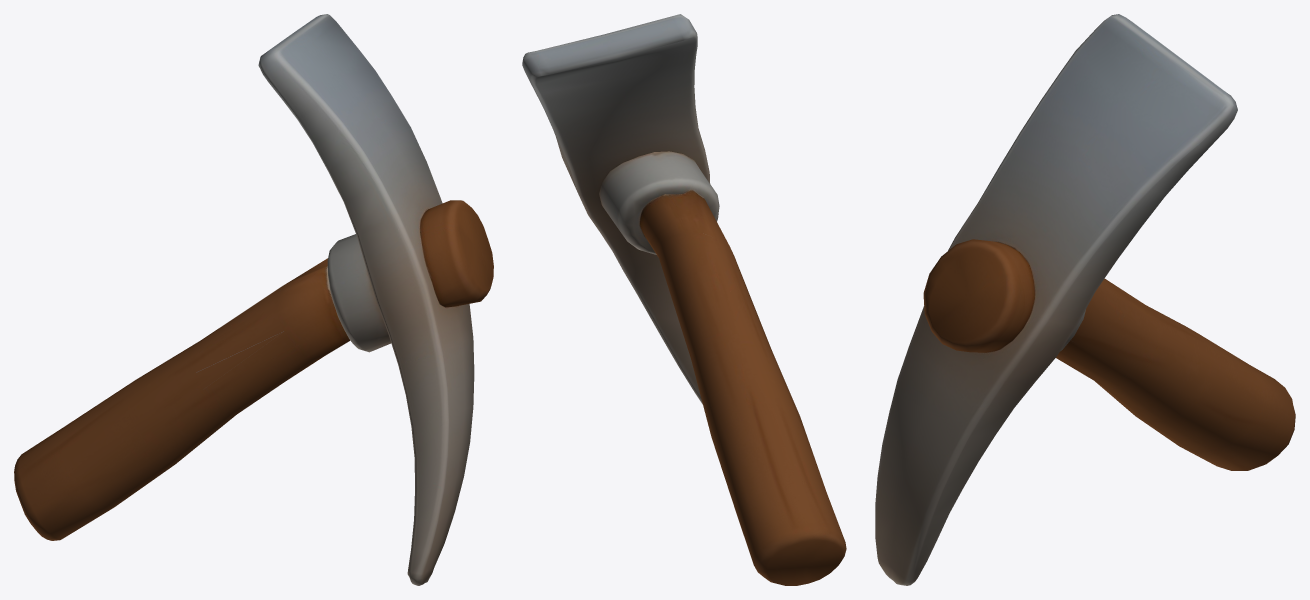
File: tripo_convert_9c5a64e1-f63d-4611-be09-75621e6b717b.fbx
The picture shows the model from 3 angles, left to right: view 1: azimuth 30°, elevation 25°; view 2: azimuth 150°, elevation 25°; view 3: azimuth 270°, elevation 25°; orthographic projection. The views are drawn at different scales.
Parts seen in each view (by area): view 1: tripo_node_9c5a64e1; view 2: tripo_node_9c5a64e1; view 3: tripo_node_9c5a64e1.
Boxes of the visible parts, <box> form: tripo_node_9c5a64e1: <box>14,14,493,585</box>; tripo_node_9c5a64e1: <box>522,14,846,585</box>; tripo_node_9c5a64e1: <box>875,14,1295,585</box>.
Bounding box in the file's own units: 79.88 × 69.73 × 99.8.
1 material, 1 textured.
